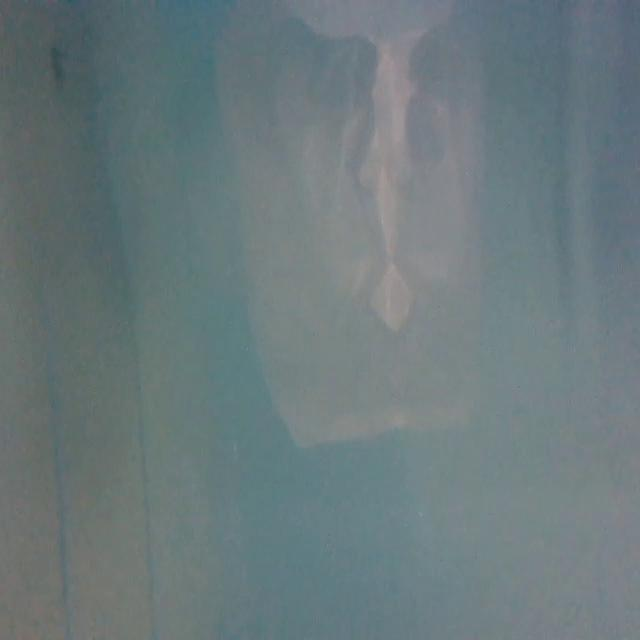plastic bags: (232, 11, 484, 441)
